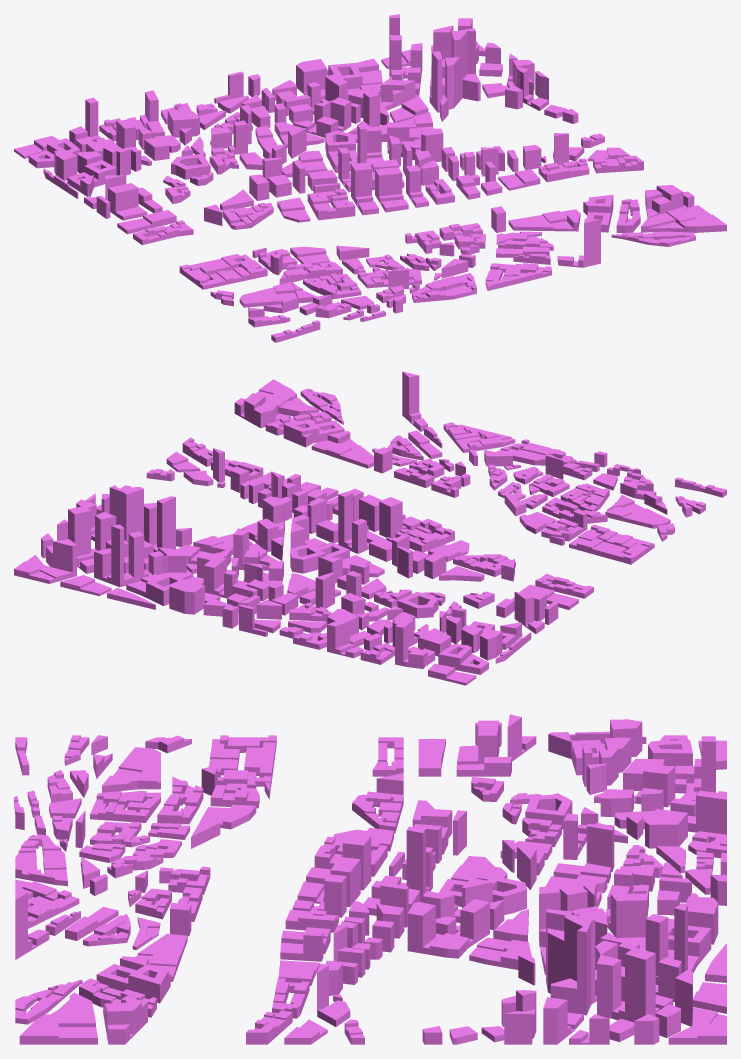
The model's file is buildings_00025.obj.
3 views of the same model, one above another, from view 1: azimuth 30°, elevation 25°; view 2: azimuth 150°, elevation 25°; view 3: azimuth 270°, elevation 25° (orthographic). The views are drawn at different scales.
Bounding box in the file's own units: 1512 × 194 × 1503.
